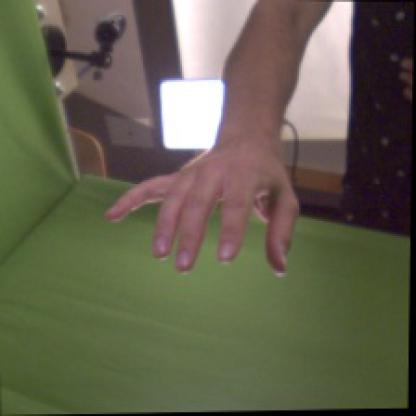Hand: (103, 142, 302, 274)
